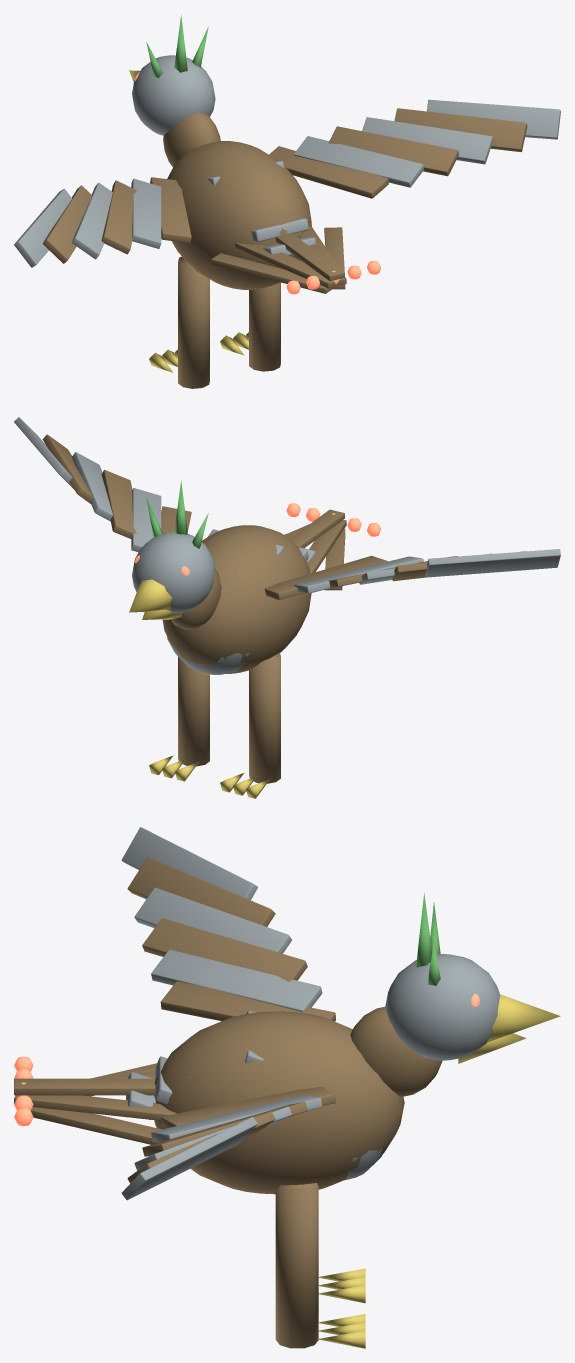
File: ironbeak.glb
3 views of the same model, one above another, from view 1: azimuth 30°, elevation 25°; view 2: azimuth 150°, elevation 25°; view 3: azimuth 270°, elevation 25° (orthographic). The views are drawn at different scales.
Visible parts, largest first — view 1: ironbeak; view 2: ironbeak; view 3: ironbeak.
Boxes of the visible parts, <box> form: ironbeak: <box>14,14,560,388</box>; ironbeak: <box>14,417,560,798</box>; ironbeak: <box>14,827,560,1348</box>.
Bounding box in the file's own units: 8.48 × 4.8 × 5.6.
